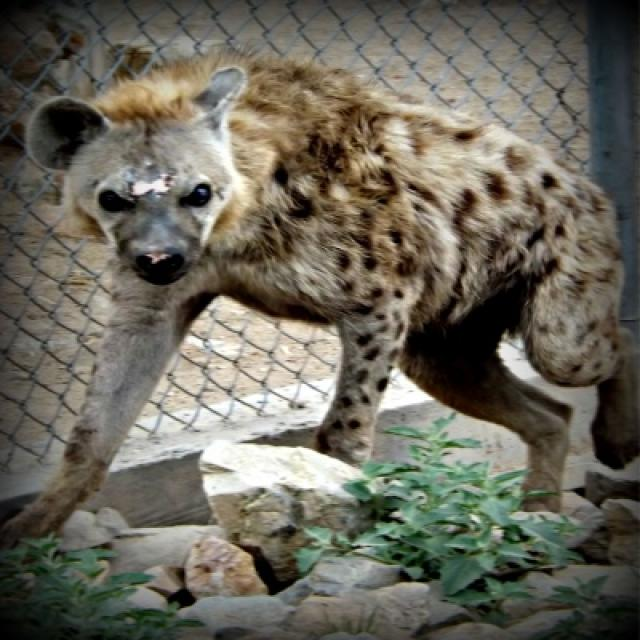hyena: (19, 53, 638, 538)
